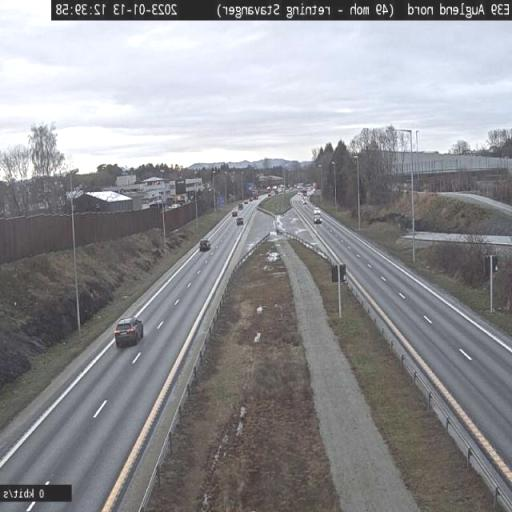vehicle: (114, 318, 144, 348), (200, 240, 210, 252)
